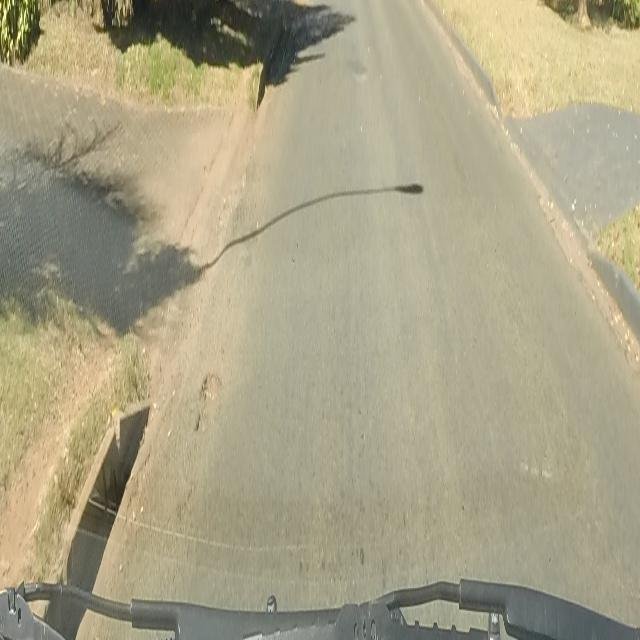pothole: (200, 370, 222, 406)
